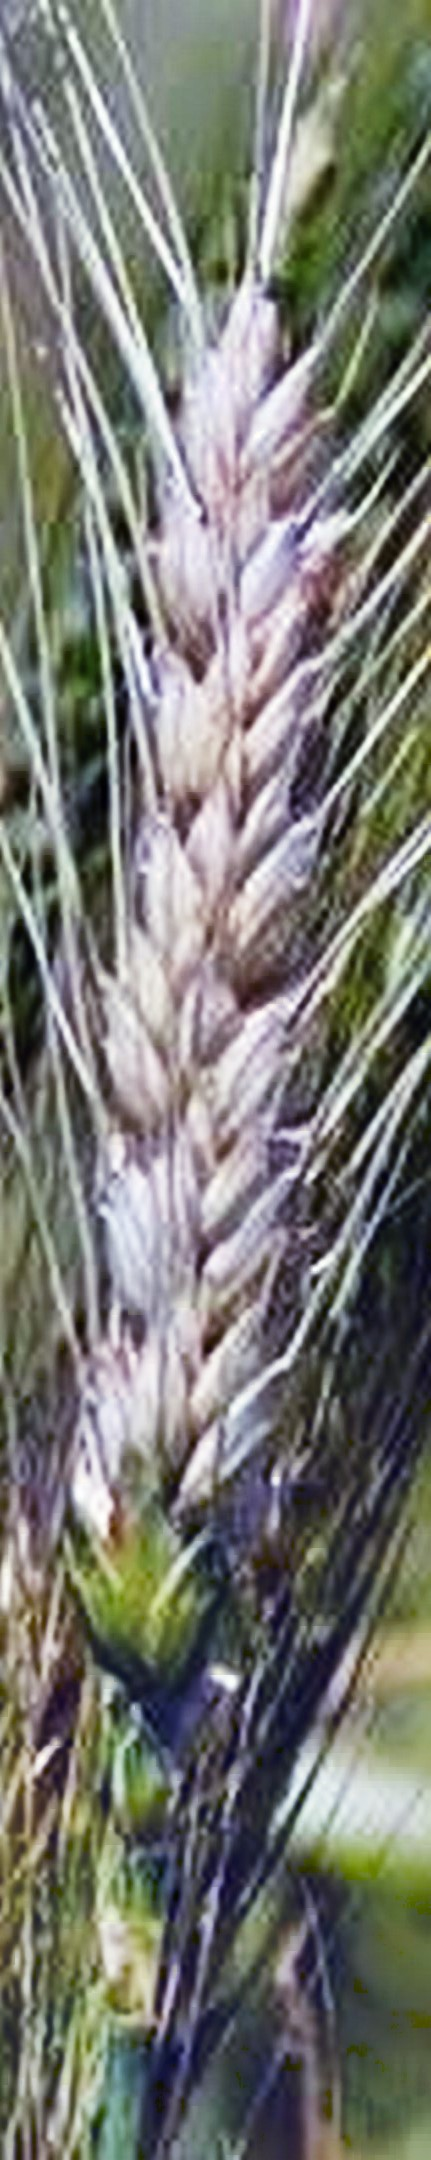Wheat scab: (37, 336, 410, 1732)
